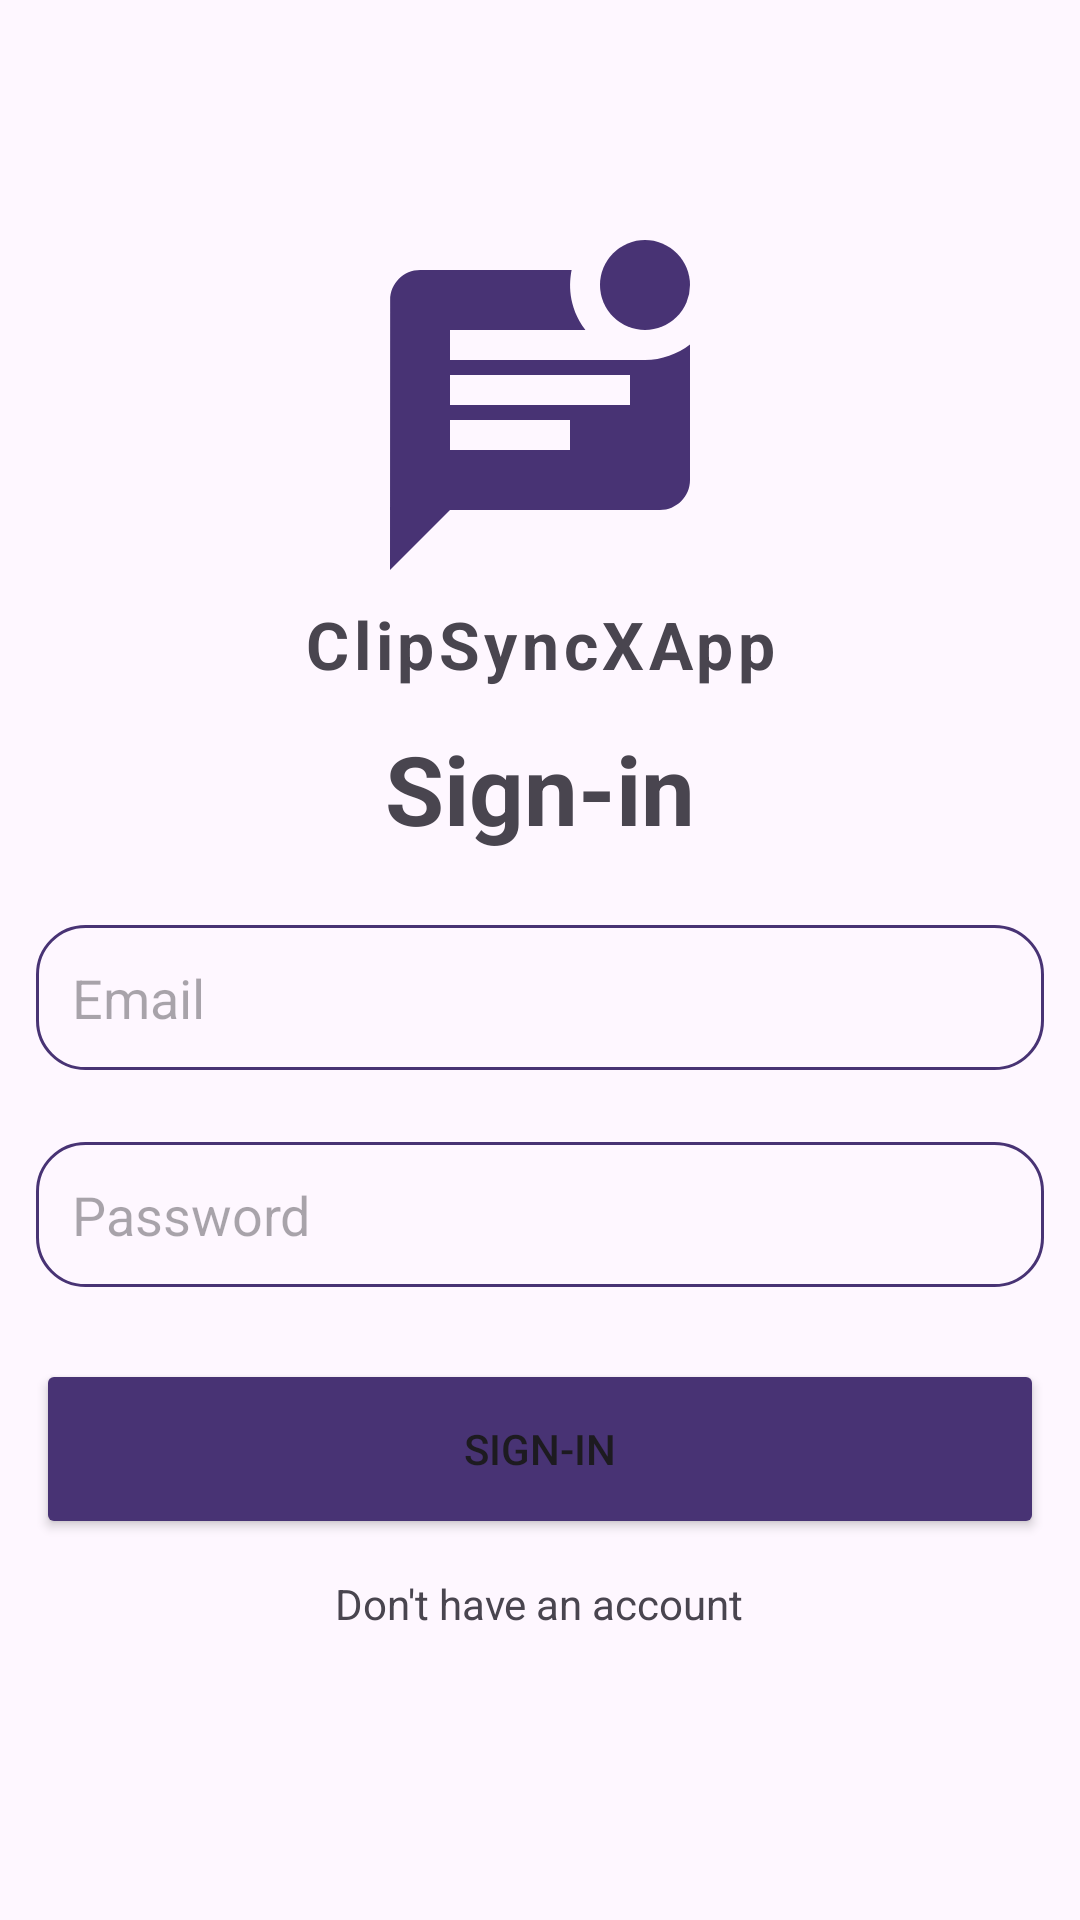

Named icons in this screenshot (1080px x 1920px) and their bounding boxes, (x1, y1, x2, y2):
mark unread chat: (390, 240, 690, 570)
